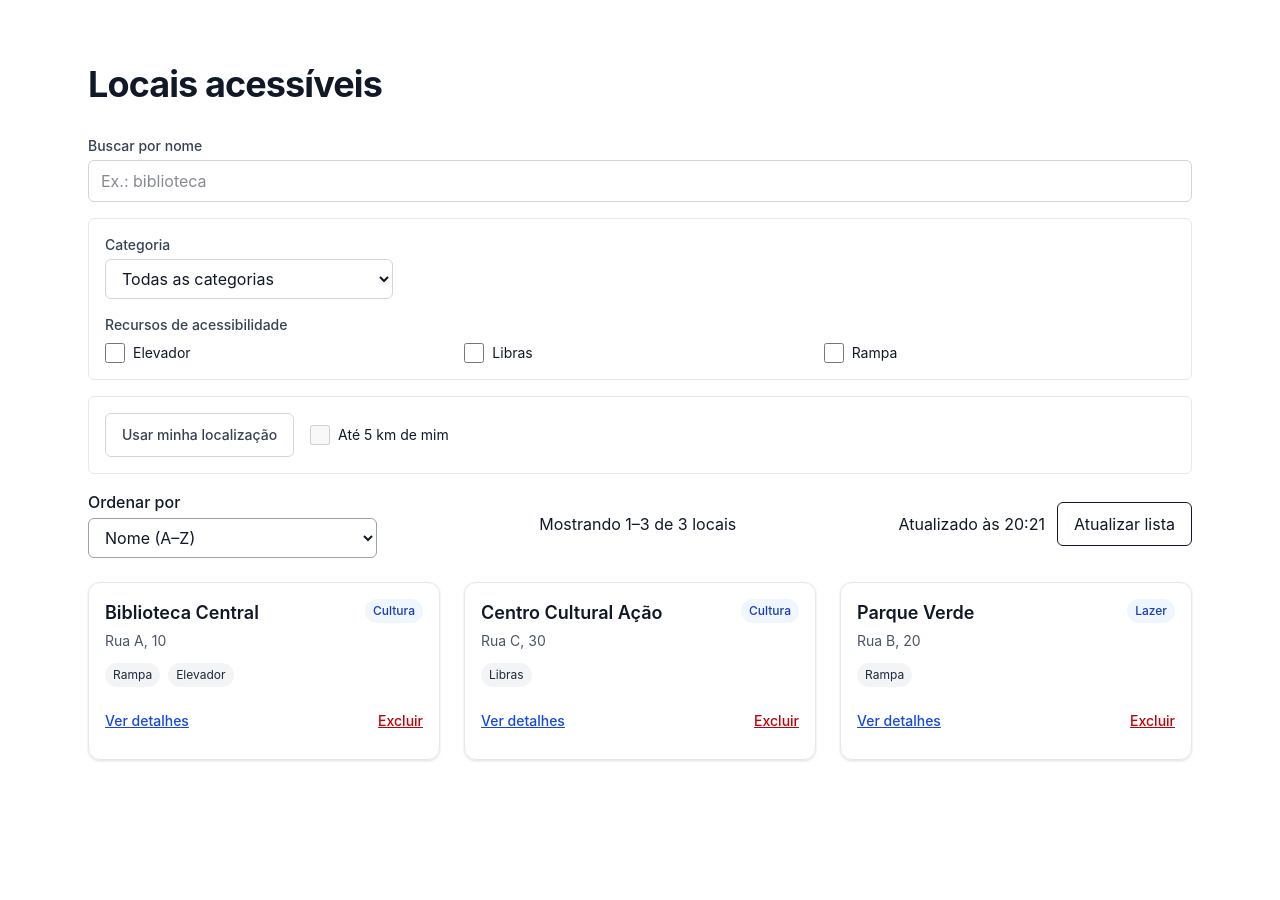
Scenario: Locais: busca e filtros › limpa filtros e busca e restaura a lista
The image size is (1280, 900).
Expected: the text "Mostrando 1–3 de 3 locais" is shown, [539, 512, 736, 536]
Step 1. Type "biblioteca" into the search field labelled "Buscar por nome" → (640, 181), box [88, 160, 1192, 202]
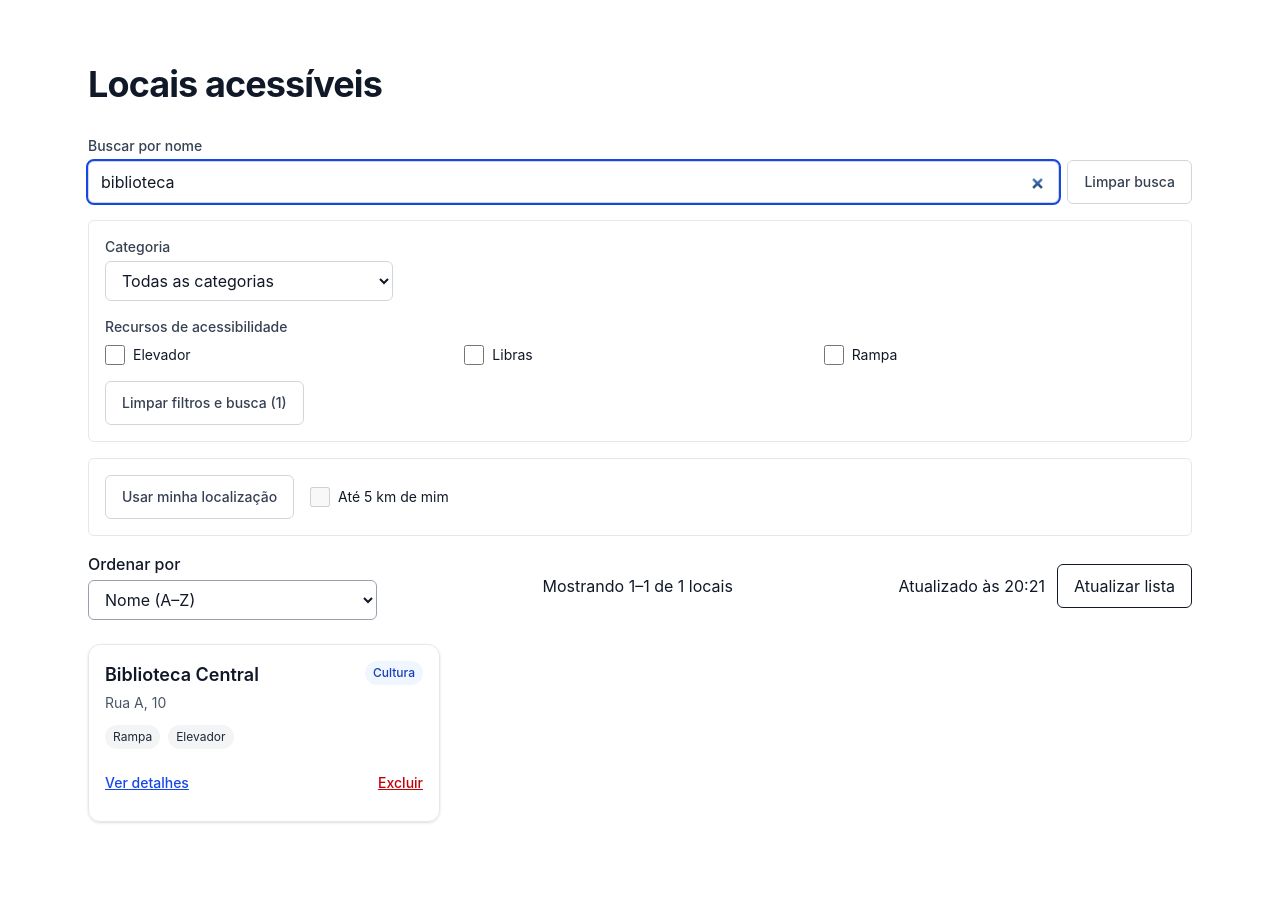
Step 2. Select "Cultura" in the dropdown labelled "Categoria" → (249, 281), box [105, 261, 393, 301]
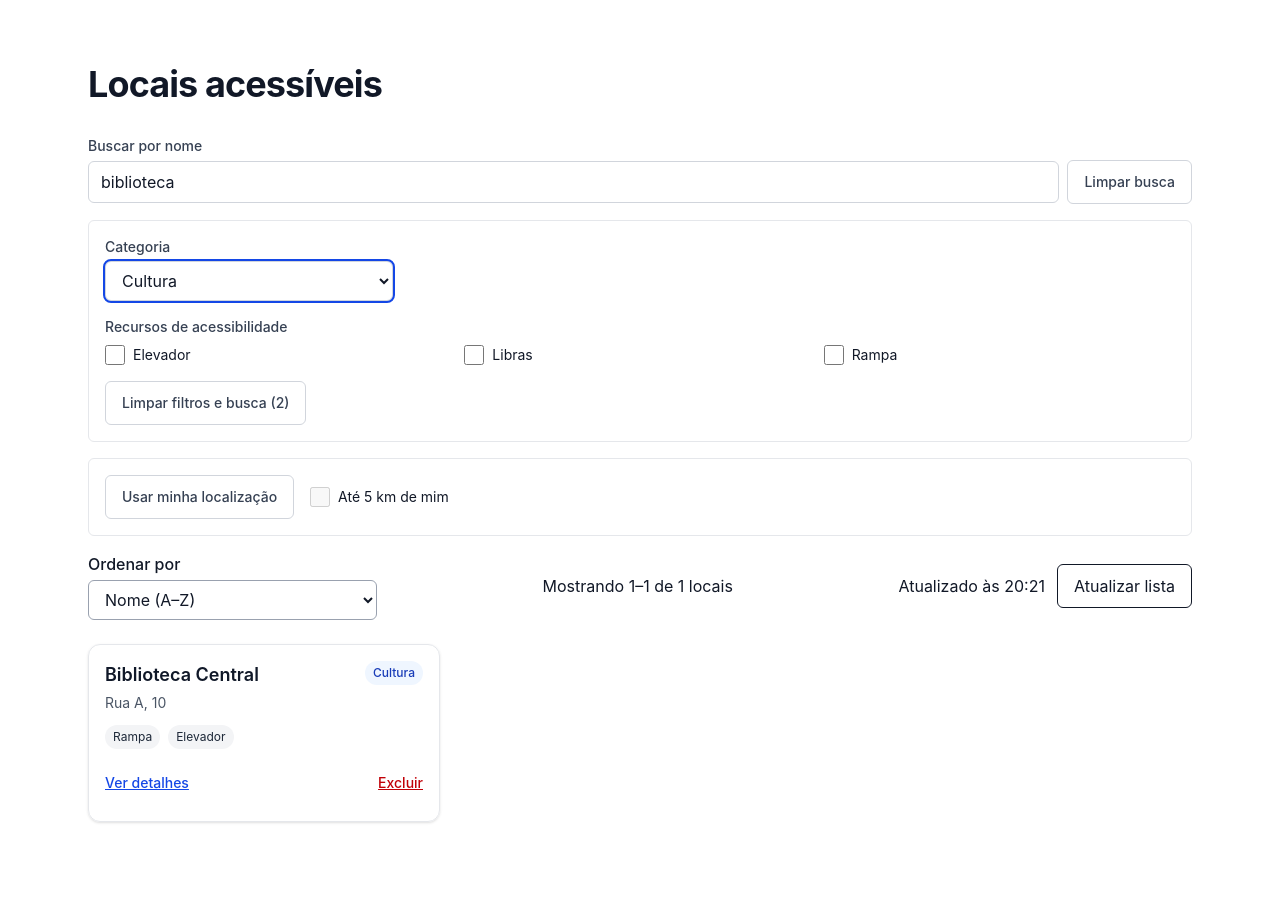
Step 3. Click the checkbox labelled "Rampa" → click(834, 355), box [824, 345, 844, 365]
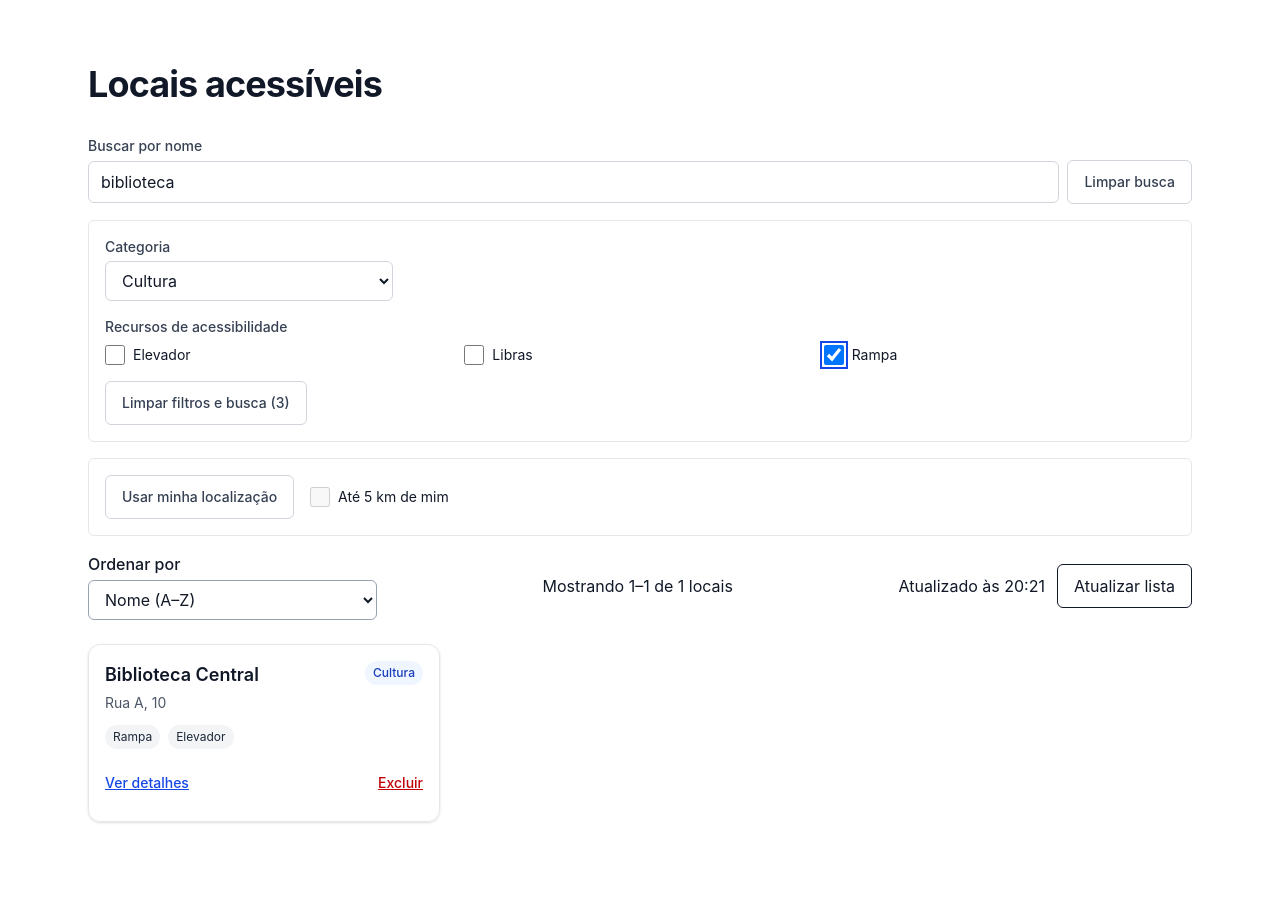
Step 4. Click the button "Limpar filtros e busca (3)" → click(206, 403), box [105, 381, 307, 425]
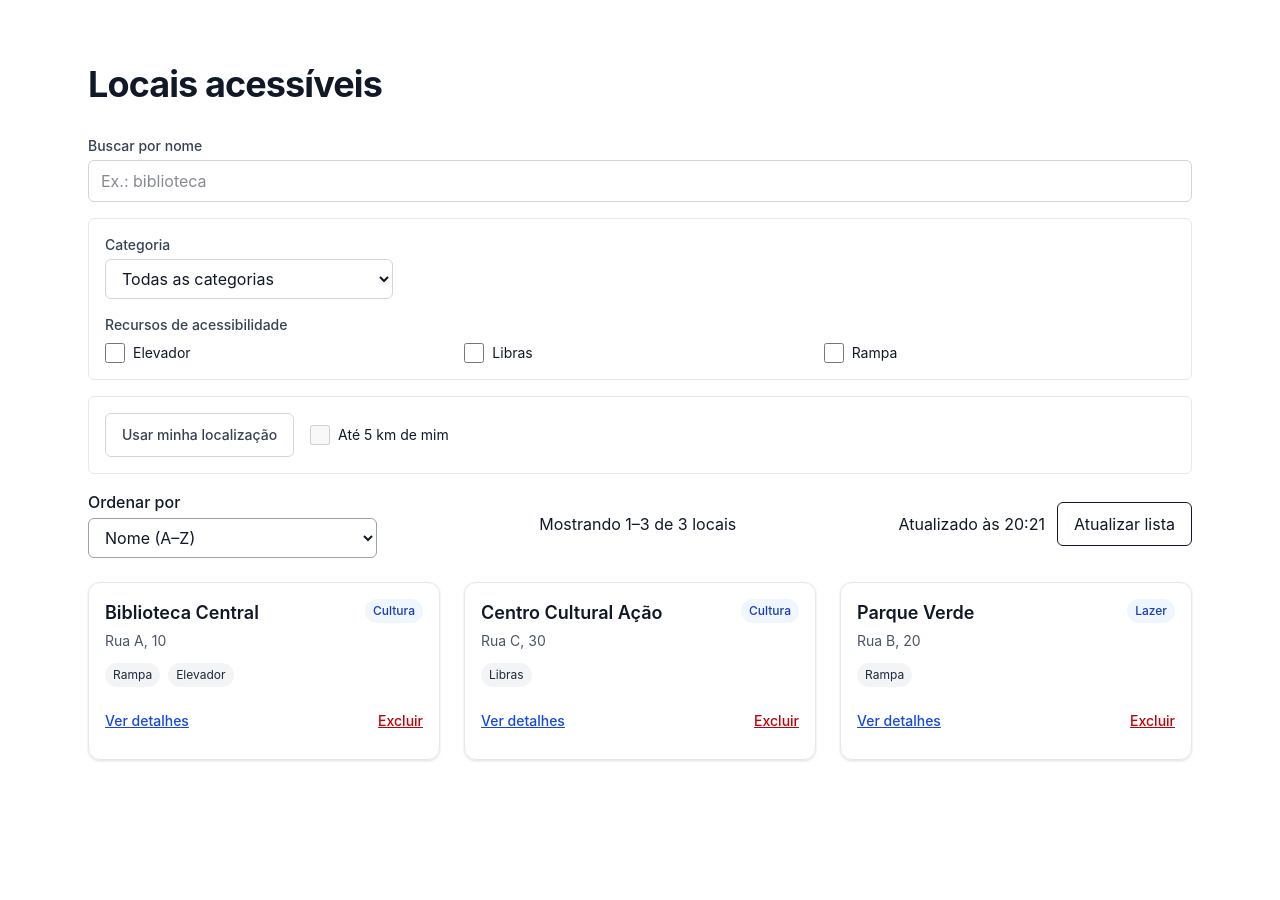
Now the search field labelled "Buscar por nome" is empty, box [88, 160, 1192, 202]
Now the text "Mostrando 1–3 de 3 locais" is shown, box [539, 512, 736, 536]
